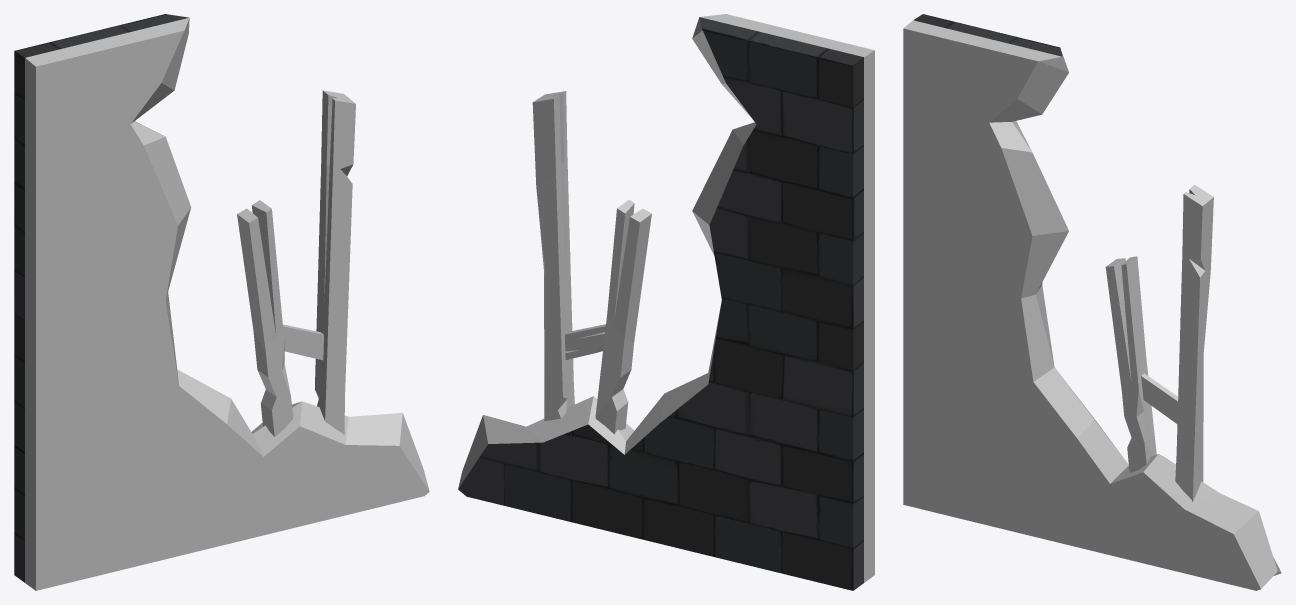
File: SM_Bld_Wall_Ruin_End_01.fbx
The picture shows the model from 3 angles, left to right: view 1: azimuth 30°, elevation 25°; view 2: azimuth 150°, elevation 25°; view 3: azimuth 330°, elevation 25°; orthographic projection. The views are drawn at different scales.
Parts seen in each view (by area): view 1: SM_Bld_Wall_Ruin_End_01; view 2: SM_Bld_Wall_Ruin_End_01; view 3: SM_Bld_Wall_Ruin_End_01.
Part boxes in pixels (x1,y1,x2,y2): SM_Bld_Wall_Ruin_End_01: (14,14,429,590); SM_Bld_Wall_Ruin_End_01: (458,14,874,590); SM_Bld_Wall_Ruin_End_01: (903,14,1281,590).
Size of the model in its own units: 240 by 301 by 22.5.
